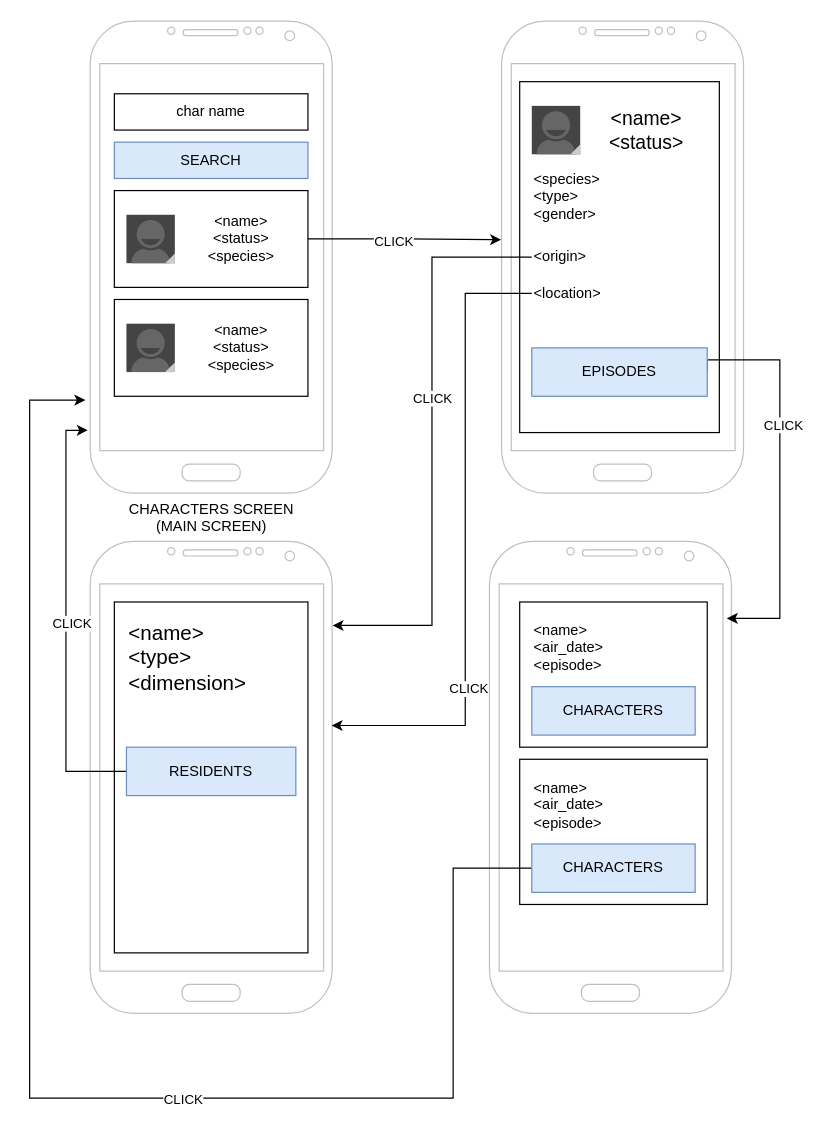
The diagram is 823 pixels wide and 1129 high, and some of its shapes have lost their labels. The box of each missing label's shape, as (x1, y1, x2, y2) in pixels:
CHARACTER DETAIL: (500, 20, 744, 493)
EPISODE DETAIL: (488, 540, 731, 1013)
LOCATION DETAIL: (89, 540, 332, 1013)
